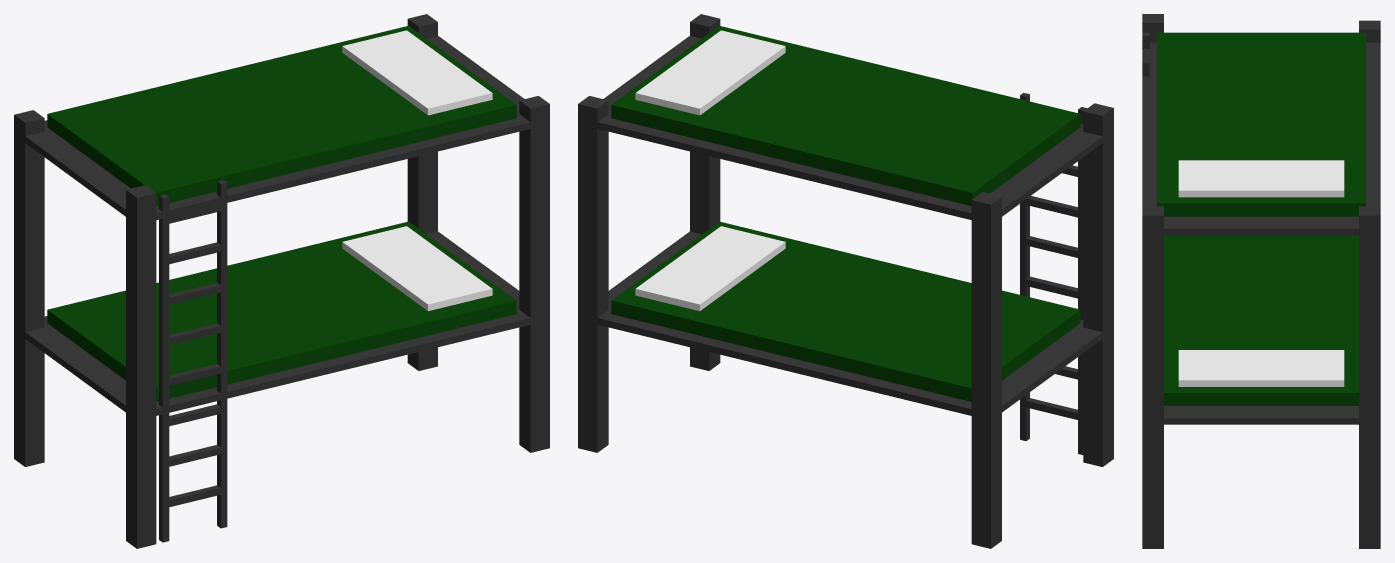
File: Bunk.fbx
3 renders of one model, left to right at view 1: azimuth 30°, elevation 25°; view 2: azimuth 150°, elevation 25°; view 3: azimuth 270°, elevation 25°, orthographic. The views are drawn at different scales.
Parts seen in each view (by area): view 1: Matrix; view 2: Matrix; view 3: Matrix.
Boxes of the visible parts, left/top/right/bottom form: Matrix: left=14, top=14, right=549, bottom=548; Matrix: left=578, top=14, right=1113, bottom=548; Matrix: left=1142, top=14, right=1380, bottom=548.
Size of the model in its own units: 64 by 52 by 33.
1 material, 1 textured.
